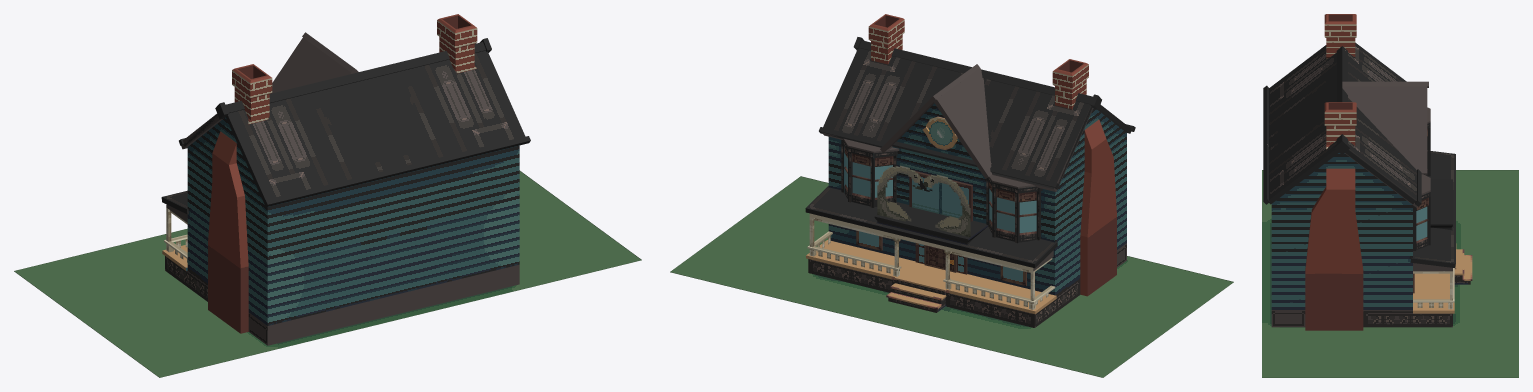
The model's file is rival_house.gltf.
The picture shows the model from 3 angles, left to right: view 1: azimuth 30°, elevation 25°; view 2: azimuth 150°, elevation 25°; view 3: azimuth 270°, elevation 25°; orthographic projection. The views are drawn at different scales.
Visible parts, largest first — view 1: bottom bace, cube (×4), gound, chimnie, toper; view 2: gound, bottom bace, FR (×3), chimnie, cube (×4), cured, roofpourch, toper (×2), windowframe, topdoor, porchplatform, stairs (+4 smaller); view 3: gound, bottom bace, chimnie, cube (×5), toper (×2), FR (×3), roofpourch, porchplatform, cured, stairs, windowframe, holy.
Boxes of the visible parts, x1,y1,x2,y2 form: bottom bace: (162, 117, 519, 345); cube (×4): (164, 42, 530, 262); gound: (14, 170, 641, 377); chimnie: (208, 14, 477, 333); toper: (271, 37, 354, 93); gound: (670, 176, 1233, 377); bottom bace: (806, 103, 1126, 327); FR (×3): (822, 48, 1093, 191); chimnie: (868, 14, 1116, 296); cube (×4): (807, 40, 1092, 309); cured: (842, 139, 1042, 242); roofpourch: (805, 186, 1057, 268); toper (×2): (880, 68, 992, 178); windowframe: (841, 140, 1040, 243); topdoor: (909, 171, 972, 221); porchplatform: (874, 202, 987, 244); stairs: (886, 277, 946, 312); gound: (1262, 170, 1518, 377); bottom bace: (1271, 153, 1454, 327); chimnie: (1305, 14, 1363, 330); cube (×5): (1263, 45, 1454, 309); toper (×2): (1342, 81, 1428, 174); FR (×3): (1345, 42, 1417, 207); roofpourch: (1410, 151, 1455, 267); porchplatform: (1430, 179, 1452, 229); cured: (1416, 107, 1430, 249); stairs: (1454, 243, 1472, 284); windowframe: (1413, 122, 1430, 251); holy: (1413, 263, 1452, 271).
Size of the model in its own units: 19.12 by 9.08 by 10.
7 materials, 7 textured.
